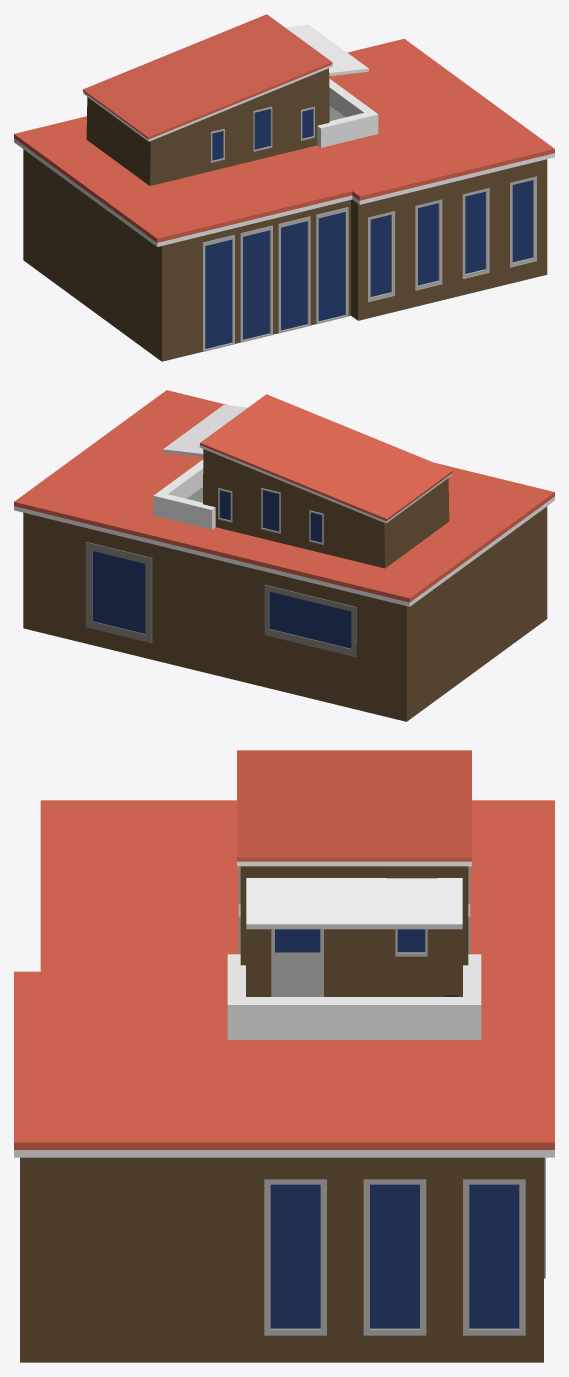
The model's file is Apartment_3.fbx.
The picture shows the model from 3 angles, top to bottom: view 1: azimuth 30°, elevation 25°; view 2: azimuth 150°, elevation 25°; view 3: azimuth 270°, elevation 25°; orthographic projection. The views are drawn at different scales.
Visible parts, largest first — view 1: Apartment_3; view 2: Apartment_3; view 3: Apartment_3.
Part boxes in pixels (<box>): Apartment_3: <box>14,14,554,361</box>; Apartment_3: <box>14,390,554,721</box>; Apartment_3: <box>14,750,554,1362</box>.
Size of the model in its own units: 1009 by 509 by 674.
